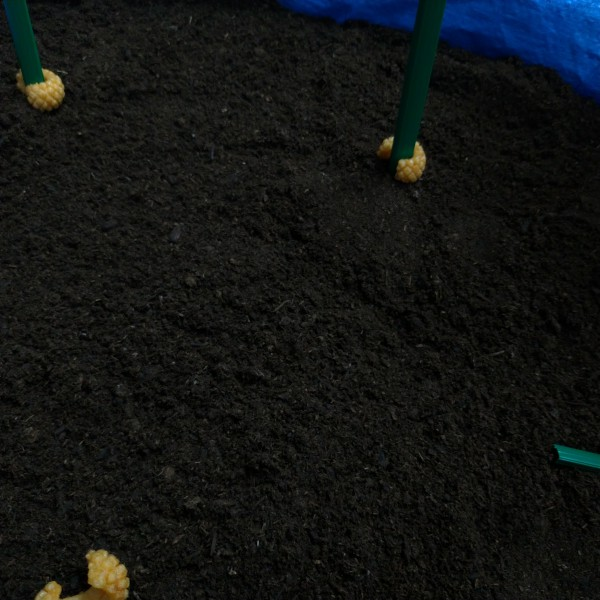eggs: (34, 545, 127, 600), (376, 131, 431, 180), (14, 65, 69, 107)
